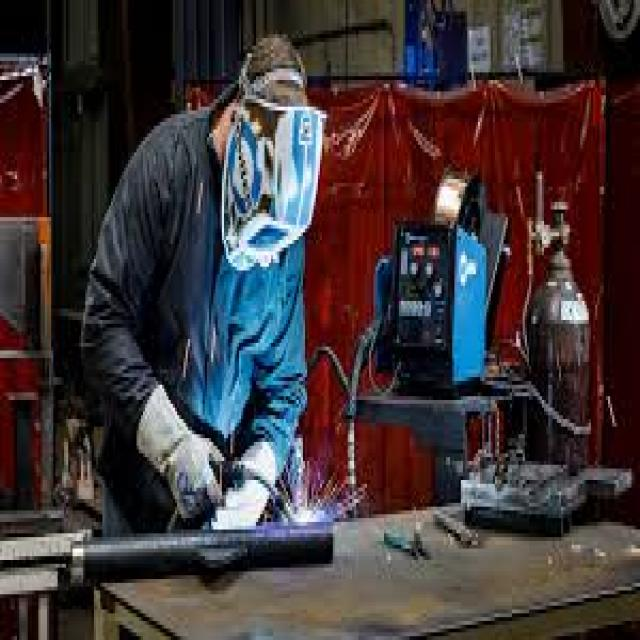welding: (297, 507, 319, 526)
